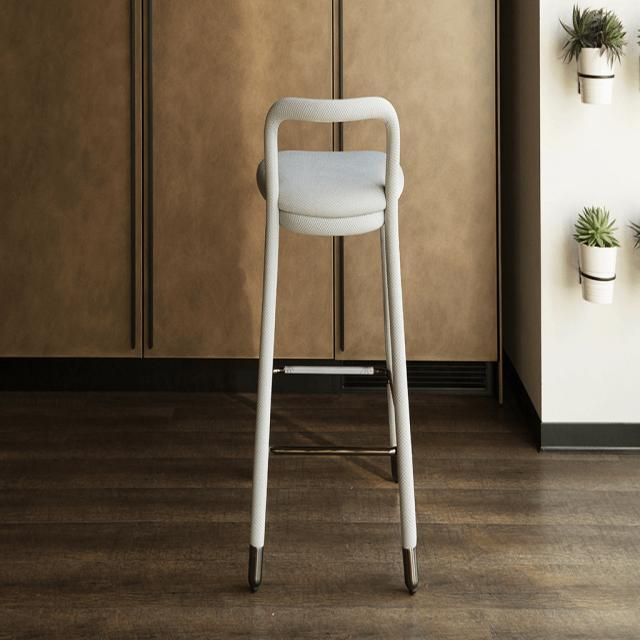chair: (242, 86, 424, 598), (253, 95, 412, 237)
